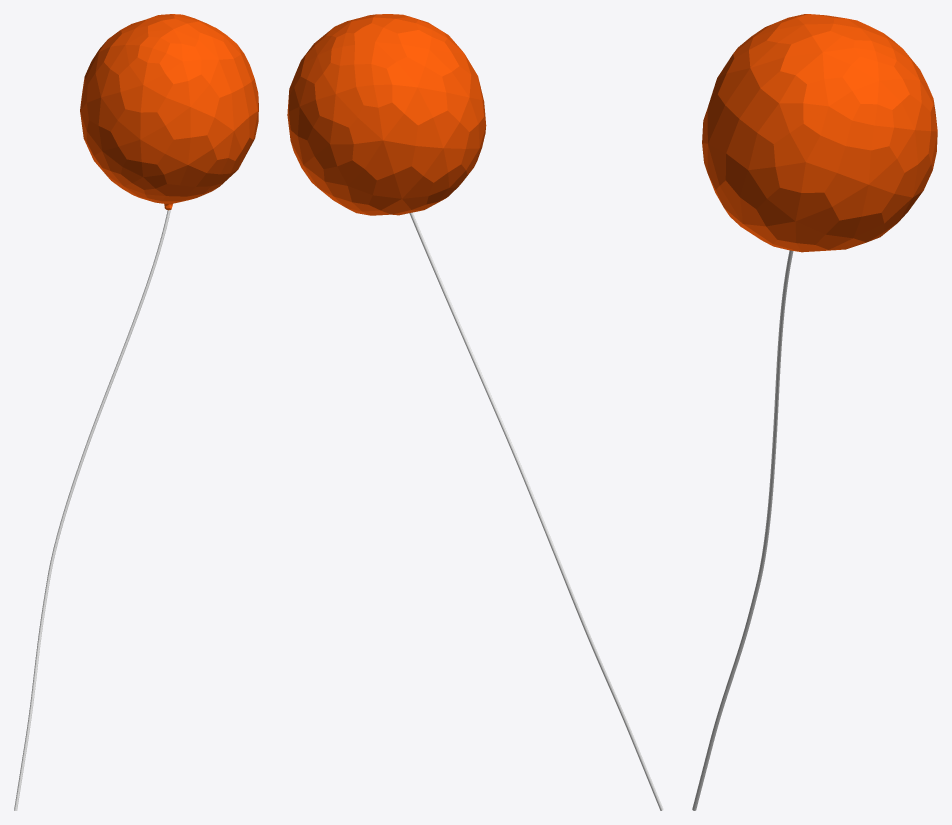
The model's file is BallonOrange.fbx.
3 views of the same model, side by side, from view 1: azimuth 30°, elevation 25°; view 2: azimuth 150°, elevation 25°; view 3: azimuth 270°, elevation 25° (orthographic). The views are drawn at different scales.
Parts seen in each view (by area): view 1: BallonOrange; view 2: BallonOrange; view 3: BallonOrange.
Boxes of the visible parts, box(x1,y1,x2,y2) form: BallonOrange: box(14, 14, 258, 810); BallonOrange: box(287, 14, 663, 810); BallonOrange: box(692, 14, 937, 810).
Size of the model in its own units: 319 by 759 by 185.
